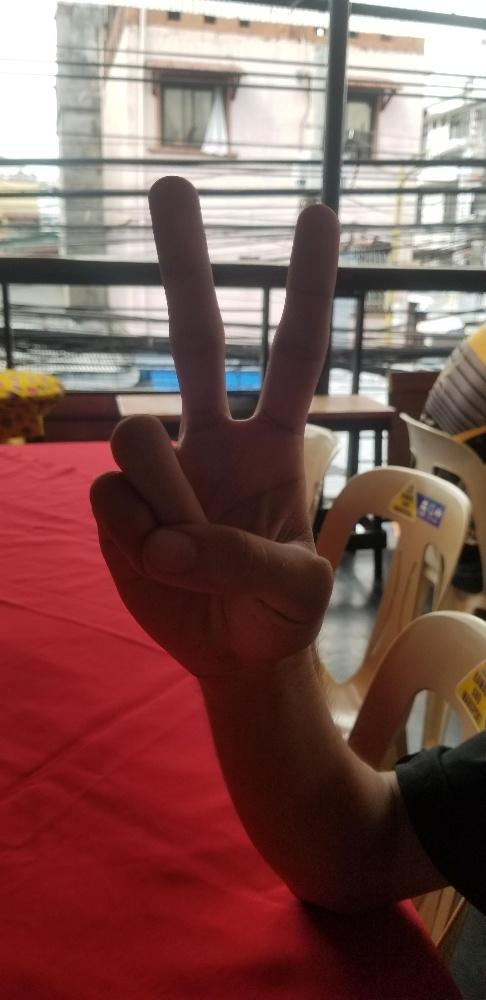v: (84, 170, 346, 673)
